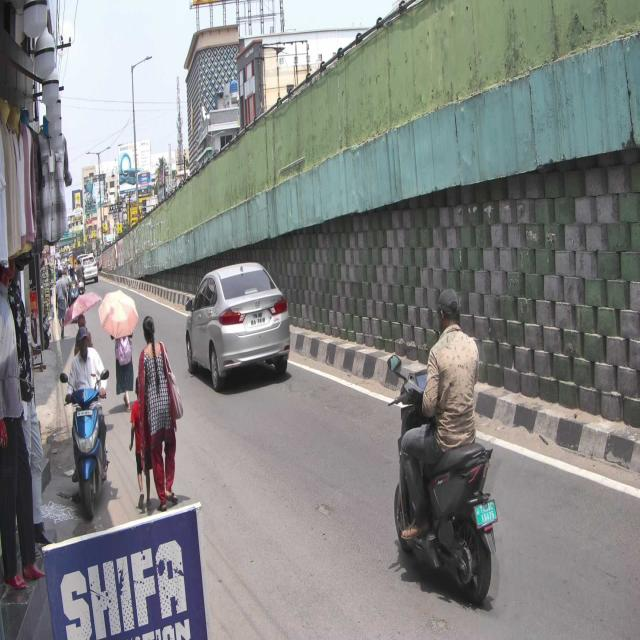single_rider: (388, 286, 499, 608), (63, 327, 110, 515)
